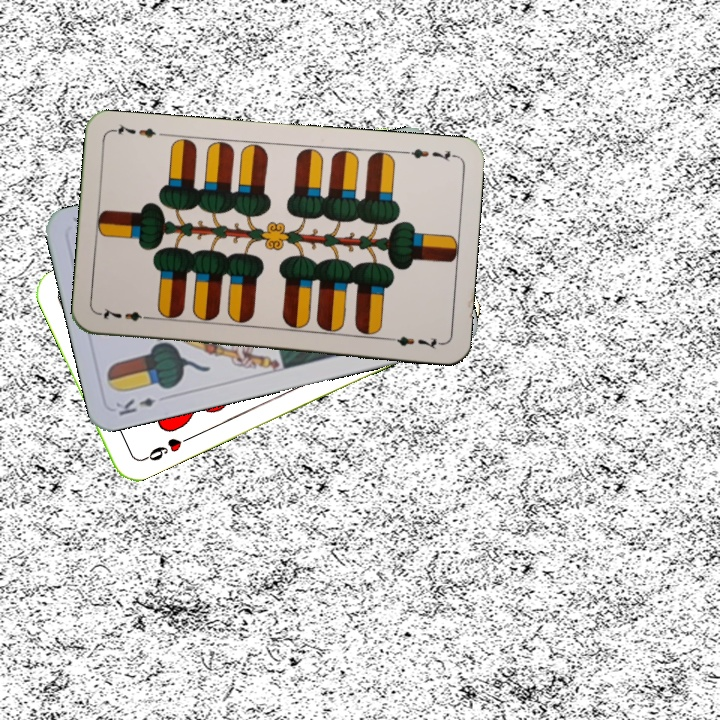E7: (96, 304, 155, 324), (399, 144, 458, 164)
EK: (111, 393, 158, 419)
H9: (137, 432, 193, 464)
